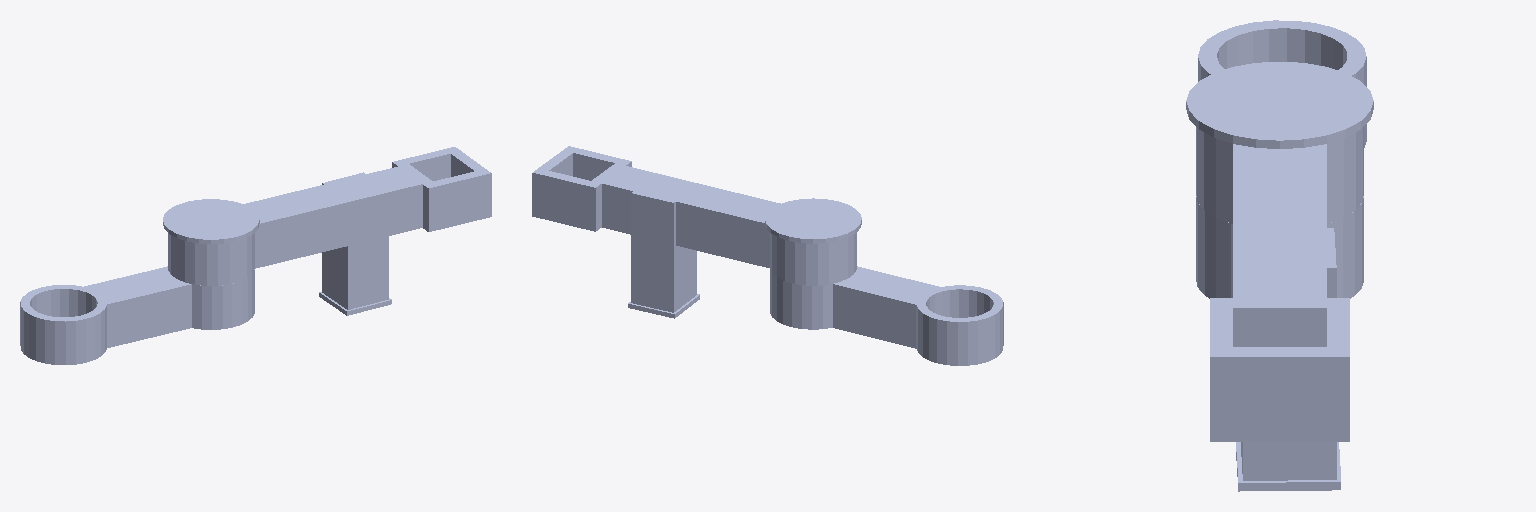
robot.urdf — my_robot:
<?xml version="1.0" encoding="utf-8"?>
<!-- This URDF was automatically created by SolidWorks to URDF Exporter! Originally created by Stephen Brawner (brawner@gmail.com) 
     Commit Version: 1.6.0-4-g7f85cfe  Build Version: 1.6.7995.38578
     For more information, please see http://wiki.ros.org/sw_urdf_exporter -->
<robot
  name="my_robot">
  <link
    name="base_link">
    <inertial>
      <origin
        xyz="3.46944695195361E-18 0 0.0904371532311637"
        rpy="0 0 0" />
      <mass
        value="6.24513231920778" />
      <inertia
        ixx="0.045813663764175"
        ixy="3.97540796578018E-19"
        ixz="-7.04075760399915E-19"
        iyy="0.045813663764175"
        iyz="-5.66846010352481E-19"
        izz="0.0340710749087118" />
    </inertial>
    <visual>
      <origin
        xyz="0 0 0"
        rpy="0 0 0" />
      <geometry>
        <mesh
          filename="package://my_robot/meshes/base_link.STL" />
      </geometry>
      <material
        name="">
        <color
          rgba="0.792156862745098 0.819607843137255 0.933333333333333 1" />
      </material>
    </visual>
    <collision>
      <origin
        xyz="0 0 0"
        rpy="0 0 0" />
      <geometry>
        <mesh
          filename="package://my_robot/meshes/base_link.STL" />
      </geometry>
    </collision>
  </link>
  <link
    name="Link01_Link">
    <inertial>
      <origin
        xyz="0.253227532242626 -0.00181877889930493 0.0223525896423132"
        rpy="0 0 0" />
      <mass
        value="6.88681009624485" />
      <inertia
        ixx="0.0295682164036904"
        ixy="0.000840455151171722"
        ixz="-0.014895574365885"
        iyy="0.146578263615436"
        iyz="0.000106985824605129"
        izz="0.140762682864953" />
    </inertial>
    <visual>
      <origin
        xyz="0 0 0"
        rpy="0 0 0" />
      <geometry>
        <mesh
          filename="package://my_robot/meshes/Link01_Link.STL" />
      </geometry>
      <material
        name="">
        <color
          rgba="0.792156862745098 0.819607843137255 0.933333333333333 1" />
      </material>
    </visual>
    <collision>
      <origin
        xyz="0 0 0"
        rpy="0 0 0" />
      <geometry>
        <mesh
          filename="package://my_robot/meshes/Link01_Link.STL" />
      </geometry>
    </collision>
  </link>
  <joint
    name="Joint01_joint"
    type="continuous">
    <origin
      xyz="0 0 0.17"
      rpy="0 0 0" />
    <parent
      link="base_link" />
    <child
      link="Link01_Link" />
    <axis
      xyz="0 0 1" />
  </joint>
  <link
    name="Link02_Link">
    <inertial>
      <origin
        xyz="0.174347563627638 0.00460354235033433 0.00387140852064086"
        rpy="0 0 0" />
      <mass
        value="4.46317135032901" />
      <inertia
        ixx="0.0134415127106594"
        ixy="-0.00217020887865235"
        ixz="0.00301250963785124"
        iyy="0.0961674692620408"
        iyz="7.95435015556471E-05"
        izz="0.100921848562148" />
    </inertial>
    <visual>
      <origin
        xyz="0 0 0"
        rpy="0 0 0" />
      <geometry>
        <mesh
          filename="package://my_robot/meshes/Link02_Link.STL" />
      </geometry>
      <material
        name="">
        <color
          rgba="0.792156862745098 0.819607843137255 0.933333333333333 1" />
      </material>
    </visual>
    <collision>
      <origin
        xyz="0 0 0"
        rpy="0 0 0" />
      <geometry>
        <mesh
          filename="package://my_robot/meshes/Link02_Link.STL" />
      </geometry>
    </collision>
  </link>
  <joint
    name="joint02_joint"
    type="continuous">
    <origin
      xyz="0.34999 -0.0025138 0.1"
      rpy="0 0 0" />
    <parent
      link="Link01_Link" />
    <child
      link="Link02_Link" />
    <axis
      xyz="0 0 1" />
  </joint>
  <link
    name="Link03_Link">
    <inertial>
      <origin
        xyz="0 0 -0.131001526135063"
        rpy="0 0 0" />
      <mass
        value="2.621" />
      <inertia
        ixx="0.0171776793272288"
        ixy="-1.06535912922412E-18"
        ixz="7.67111464716451E-19"
        iyy="0.0171776793272288"
        iyz="-2.78573713821041E-18"
        izz="0.00441068333333334" />
    </inertial>
    <visual>
      <origin
        xyz="0 0 0"
        rpy="0 0 0" />
      <geometry>
        <mesh
          filename="package://my_robot/meshes/Link03_Link.STL" />
      </geometry>
      <material
        name="">
        <color
          rgba="0.792156862745098 0.819607843137255 0.933333333333333 1" />
      </material>
    </visual>
    <collision>
      <origin
        xyz="0 0 0"
        rpy="0 0 0" />
      <geometry>
        <mesh
          filename="package://my_robot/meshes/Link03_Link.STL" />
      </geometry>
    </collision>
  </link>
  <joint
    name="joint03_joint"
    type="prismatic">
    <origin
      xyz="0.34988 0.0091808 0.05"
      rpy="0 0 0" />
    <parent
      link="Link02_Link" />
    <child
      link="Link03_Link" />
    <axis
      xyz="0 0 1" />
    <limit
      lower="0"
      upper="0.13"
      effort="0"
      velocity="0" />
  </joint>
  <link
    name="End_efector_Link">
    <inertial>
      <origin
        xyz="0 0 0.128998473864937"
        rpy="0 0 0" />
      <mass
        value="2.621" />
      <inertia
        ixx="0.0171776793272288"
        ixy="-1.06533520576455E-18"
        ixz="1.09910435443296E-18"
        iyy="0.0171776793272288"
        iyz="-2.78282676630507E-18"
        izz="0.00441068333333334" />
    </inertial>
    <visual>
      <origin
        xyz="0 0 0"
        rpy="0 0 0" />
      <geometry>
        <mesh
          filename="package://my_robot/meshes/End_efector_Link.STL" />
      </geometry>
      <material
        name="">
        <color
          rgba="0.792156862745098 0.819607843137255 0.933333333333333 1" />
      </material>
    </visual>
    <collision>
      <origin
        xyz="0 0 0"
        rpy="0 0 0" />
      <geometry>
        <mesh
          filename="package://my_robot/meshes/End_efector_Link.STL" />
      </geometry>
    </collision>
  </link>
  <joint
    name="Endefector_joint"
    type="fixed">
    <origin
      xyz="0 0 -0.26"
      rpy="0 0 0" />
    <parent
      link="Link03_Link" />
    <child
      link="End_efector_Link" />
    <axis
      xyz="0 0 0" />
  </joint>
</robot>

--- Render facts (derived) ---
The picture shows the robot from 3 angles, left to right: view 1: azimuth 30°, elevation 25°; view 2: azimuth 150°, elevation 25°; view 3: azimuth 270°, elevation 25°; orthographic projection.
Model my_robot with 5 links and 4 joints (2 continuous, 1 prismatic, 1 fixed), rooted at base_link, posed every joint at zero.
Visible links, largest first — view 1: Link02_Link, Link01_Link, Link03_Link; view 2: Link02_Link, Link01_Link, Link03_Link; view 3: Link02_Link, Link01_Link, Link03_Link.
Link boxes in pixels (left/top/right/bottom): Link02_Link: left=163, top=147, right=491, bottom=285; Link01_Link: left=20, top=266, right=254, bottom=364; Link03_Link: left=319, top=172, right=391, bottom=315; Link02_Link: left=532, top=146, right=861, bottom=285; Link01_Link: left=770, top=266, right=1003, bottom=365; Link03_Link: left=628, top=175, right=699, bottom=318; Link02_Link: left=1186, top=62, right=1373, bottom=441; Link01_Link: left=1196, top=20, right=1366, bottom=298; Link03_Link: left=1236, top=228, right=1340, bottom=491.
Size in the robot's own frame: 1.06 by 0.2 by 0.27 metres.
Meshes: 5 distinct files referenced, 3 mesh visuals loaded (3 binary STL); not drawn: 2 (reference not matched to a file when rendering).
